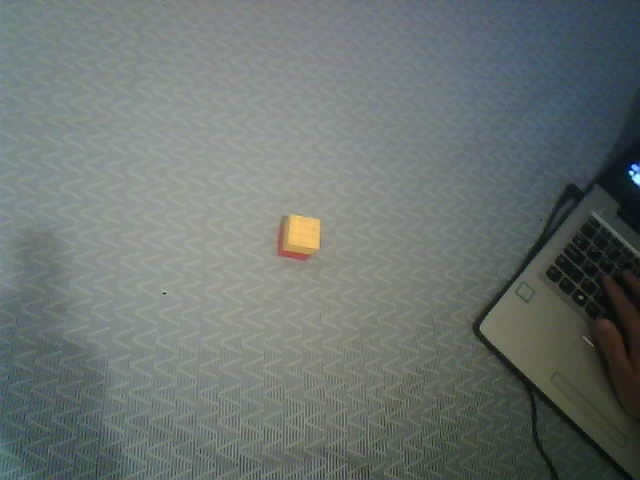lego: (276, 214, 321, 262)
